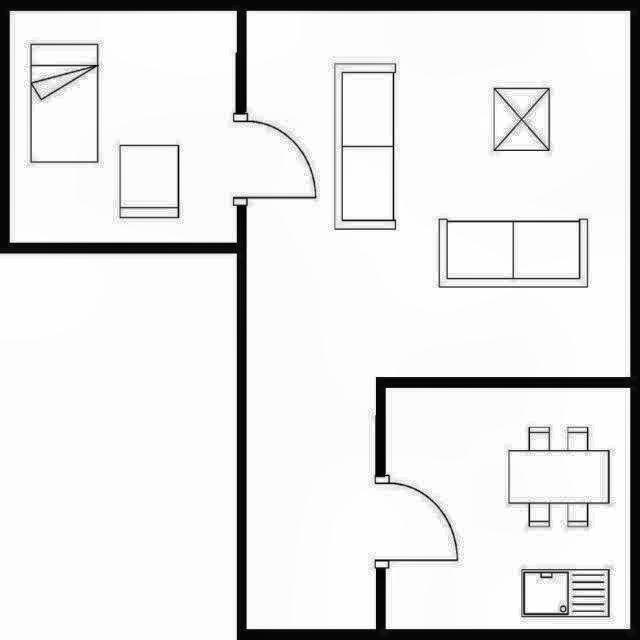room: (246, 11, 630, 629), (385, 388, 630, 629), (9, 10, 238, 243)
